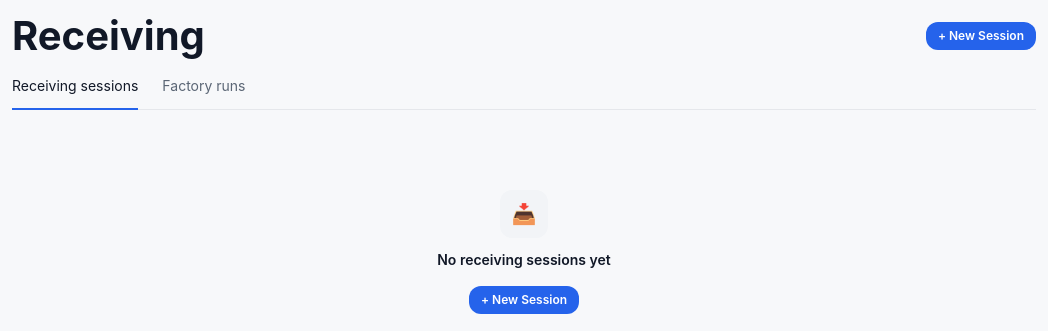
Test: Slice 6a — Factory runs tab › fr2 — switch on: the tab lists runs
Click the button "Factory runs" at (204,93), box [162,76,246,110]
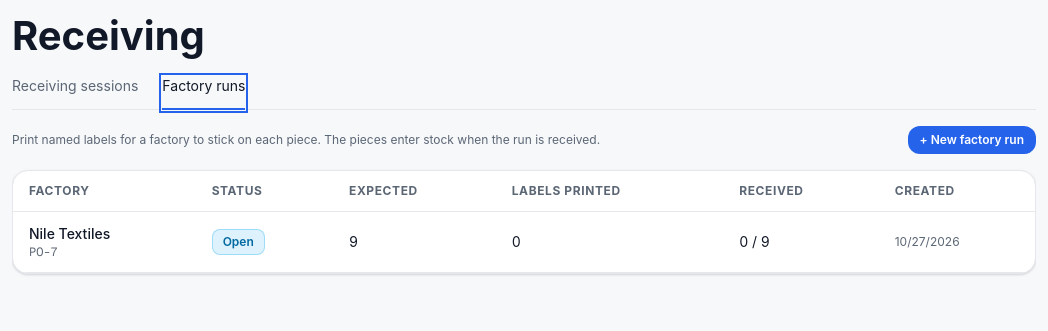
Check: the text "Nile Textiles" is shown, box [29,225,110,242]
Check: the text "PO-7" is shown, box [29,244,58,260]
Check: the text "0 / 9" is shown, box [723,212,879,272]
